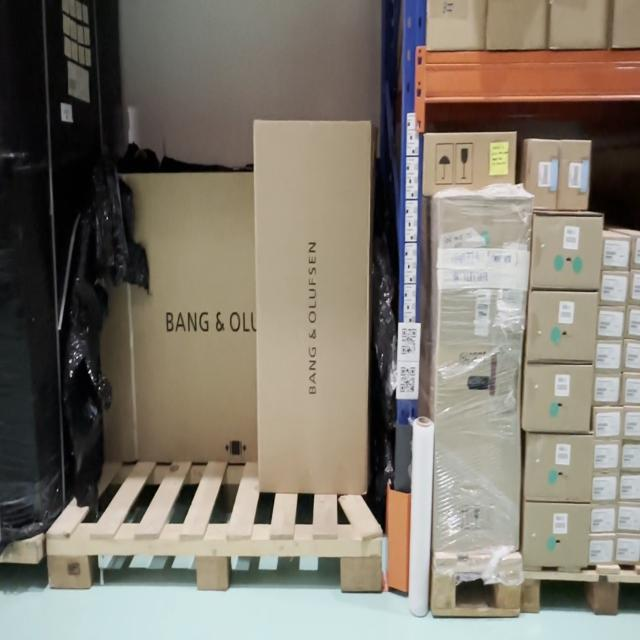box: (255, 122, 367, 494), (432, 200, 534, 559), (422, 128, 515, 189), (535, 212, 601, 288), (531, 292, 596, 361), (526, 364, 590, 434), (527, 501, 589, 568), (529, 436, 590, 499), (526, 140, 555, 210), (562, 142, 589, 208), (594, 470, 620, 503), (594, 411, 624, 439), (597, 307, 624, 338), (604, 237, 630, 269), (595, 374, 620, 405), (602, 276, 628, 302), (590, 502, 616, 528), (596, 443, 620, 471), (597, 343, 623, 368), (591, 536, 614, 561)
